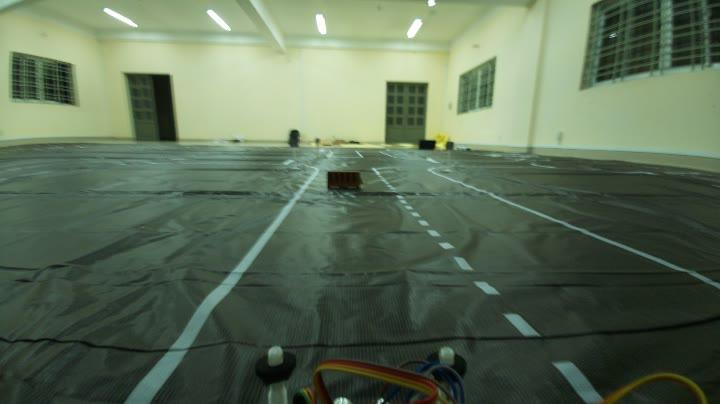roadblock: (324, 167, 369, 200)
